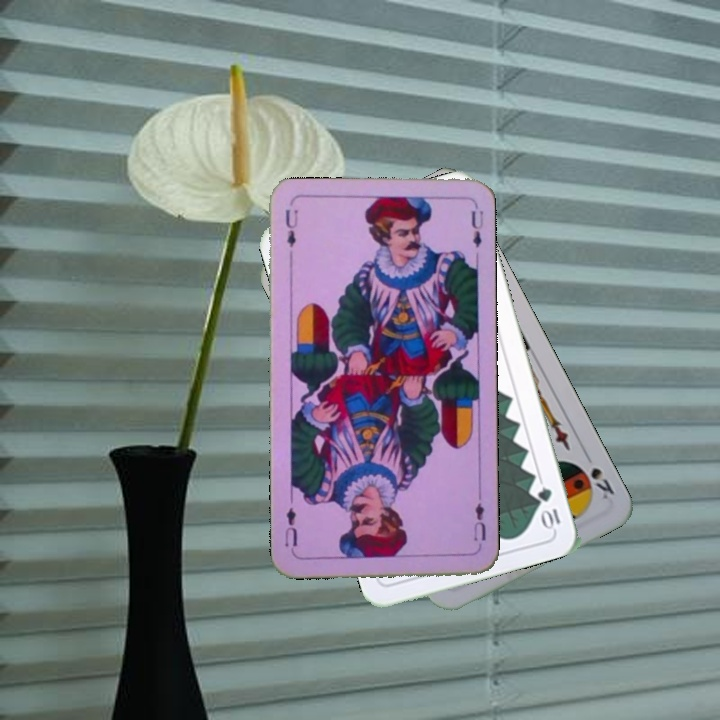EU: (281, 205, 301, 262), (469, 491, 488, 543)
G10: (533, 483, 563, 532)
SK: (586, 463, 617, 502)
